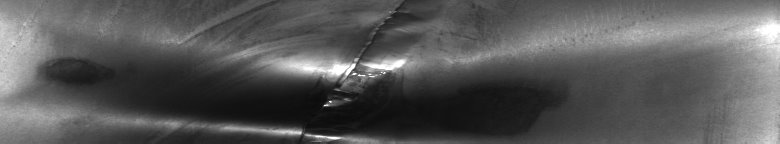ke: (42, 4, 496, 136)
